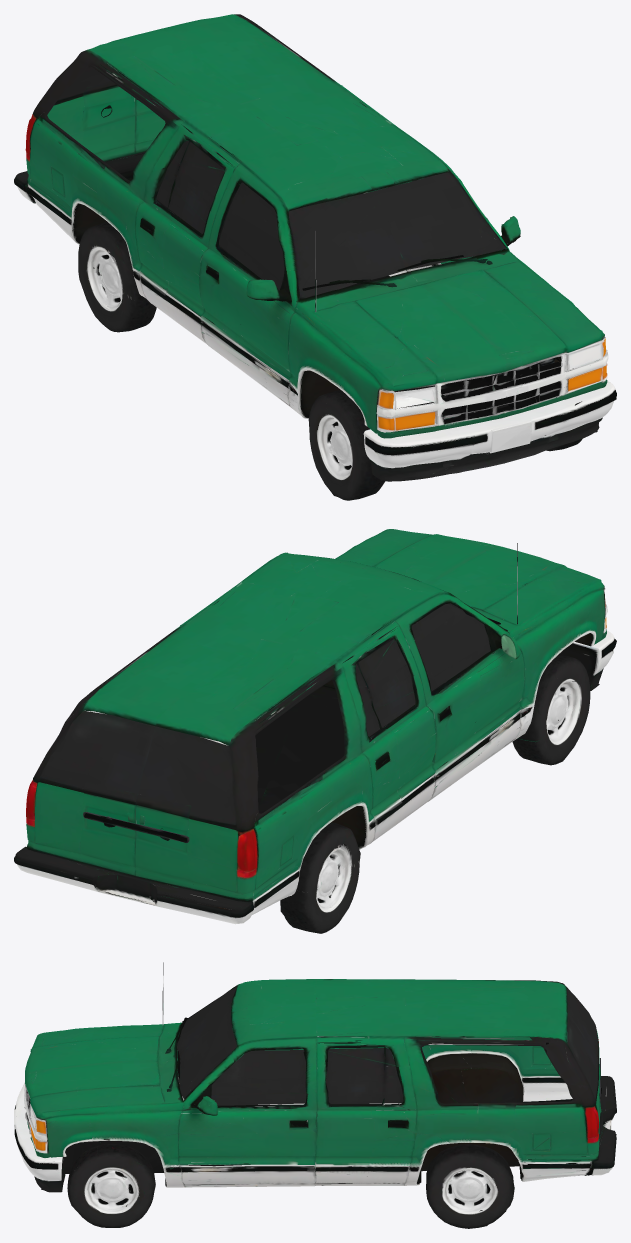
Rendered from suv-v1.glb.
3 renders of one model, top to bottom at view 1: azimuth 30°, elevation 25°; view 2: azimuth 150°, elevation 25°; view 3: azimuth 270°, elevation 25°, orthographic. The views are drawn at different scales.
Visible parts, largest first — view 1: body, wheel_fl_mesh, wheel_rl_mesh; view 2: body, wheel_rl_mesh, wheel_fl_mesh; view 3: body, wheel_rr_mesh, wheel_fr_mesh.
Boxes of the visible parts, x1,y1,x2,y2 form: body: [14, 14, 616, 481]; wheel_fl_mesh: [308, 390, 385, 500]; wheel_rl_mesh: [78, 222, 156, 332]; body: [14, 529, 616, 924]; wheel_rl_mesh: [280, 822, 360, 933]; wheel_fl_mesh: [512, 654, 590, 765]; body: [14, 962, 616, 1192]; wheel_rr_mesh: [426, 1144, 514, 1228]; wheel_fr_mesh: [67, 1144, 155, 1227].
Size of the model in its own units: 0.3833 by 0.3252 by 0.9526.
Materials: 1 (1 with a texture image).
